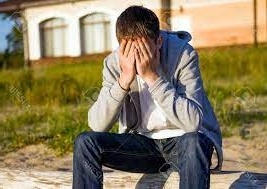not_fallen: (69, 3, 230, 187)
